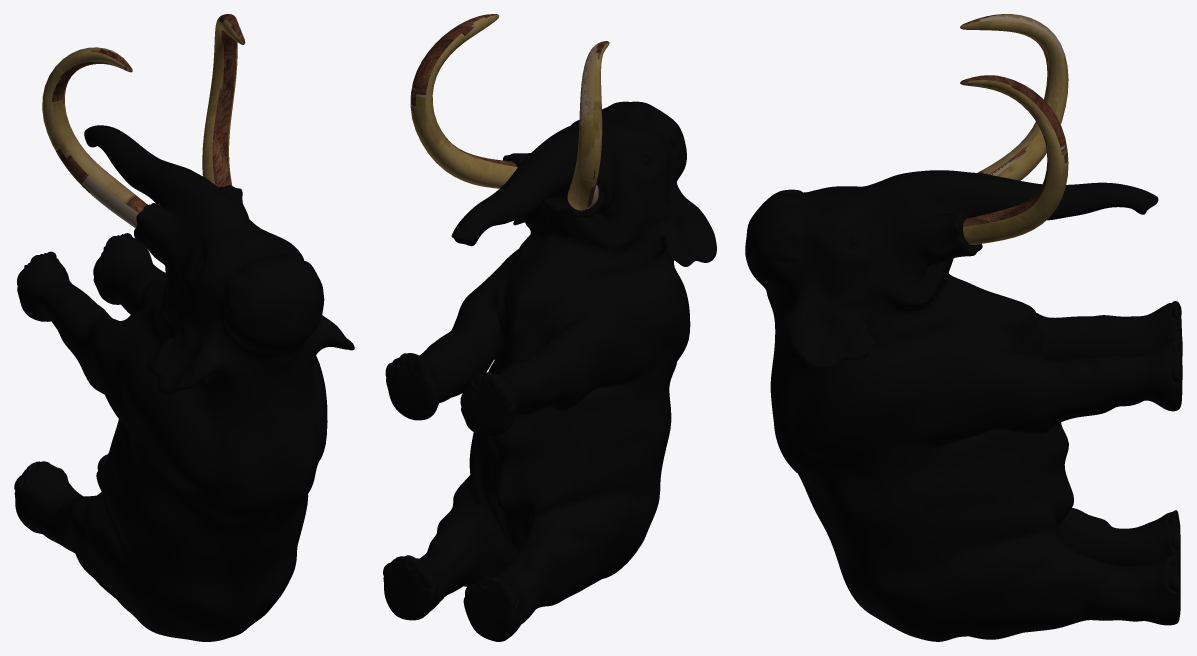
The model's file is newmam.fbx.
3 views of the same model, side by side, from view 1: azimuth 30°, elevation 25°; view 2: azimuth 150°, elevation 25°; view 3: azimuth 270°, elevation 25° (orthographic). The views are drawn at different scales.
Parts seen in each view (by area): view 1: 12229_mammmoth_v1_L3; view 2: 12229_mammmoth_v1_L3; view 3: 12229_mammmoth_v1_L3.
Part boxes in pixels (x1,y1,x2,y2): 12229_mammmoth_v1_L3: (14,14,354,641); 12229_mammmoth_v1_L3: (383,14,716,641); 12229_mammmoth_v1_L3: (745,14,1182,641).
Size of the model in its own units: 8680 by 25055 by 16765.
2 materials, 2 textured.
